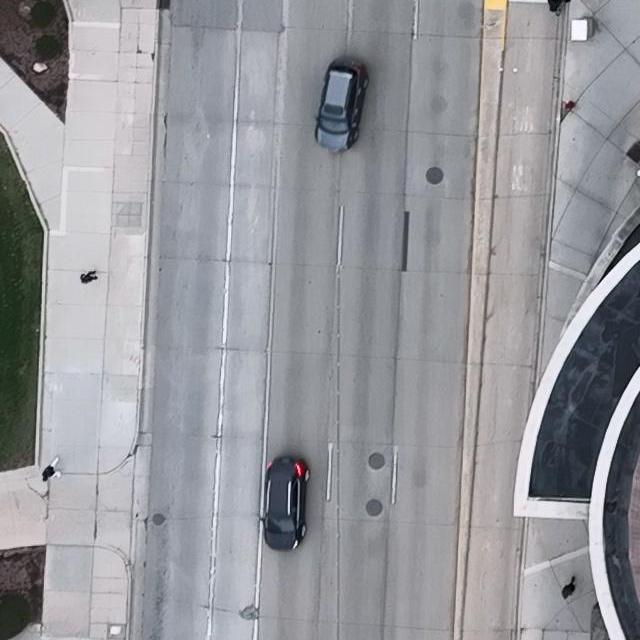car: (314, 56, 370, 153), (260, 454, 312, 550)
